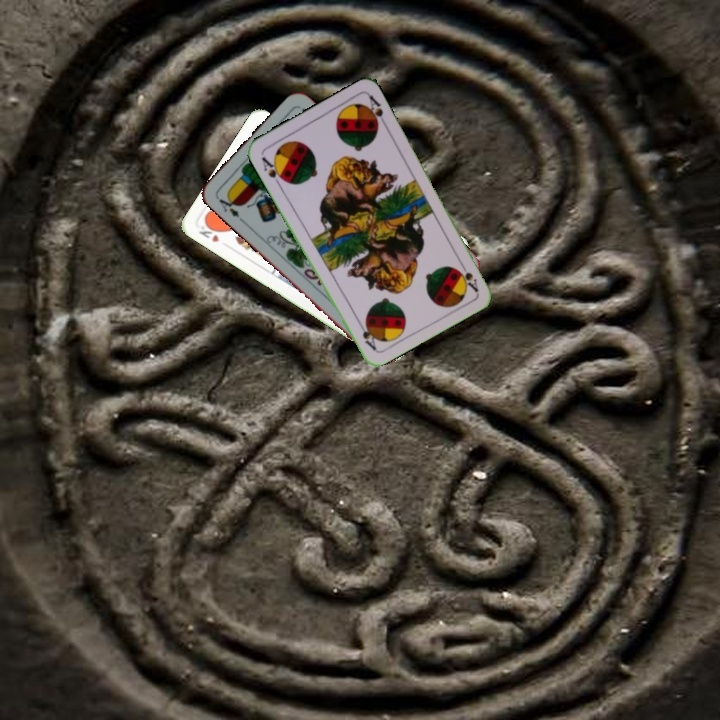EA: (215, 191, 246, 224)
HK: (195, 219, 223, 245)
SA: (453, 257, 481, 295), (258, 153, 288, 188)
